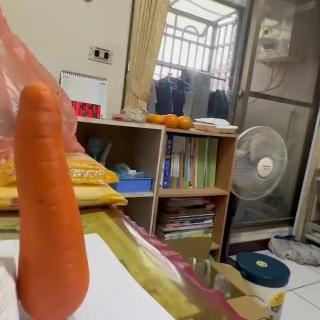carrot: (12, 82, 92, 320)
